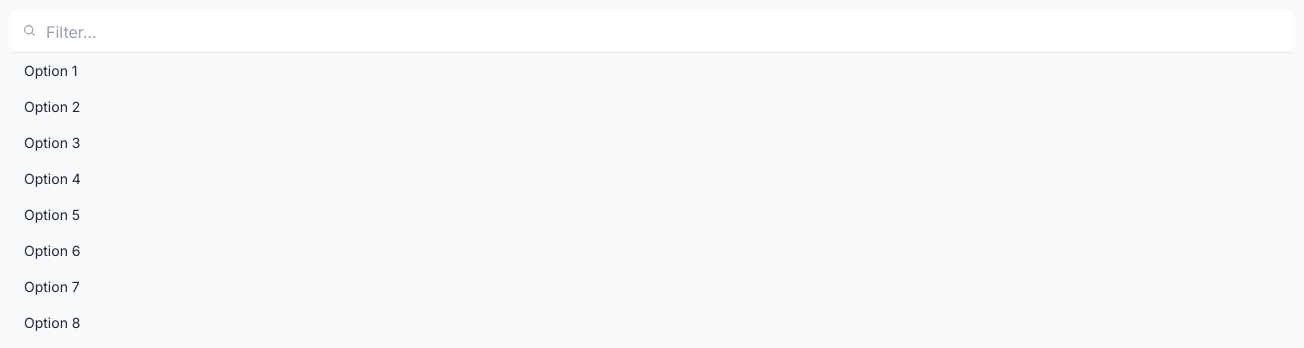
Test case: EnumPicker › typing filters the list
This screenshot has width=1304, height=348.
In the field: (652, 32) [12,12,1292,53], type "Option 12"
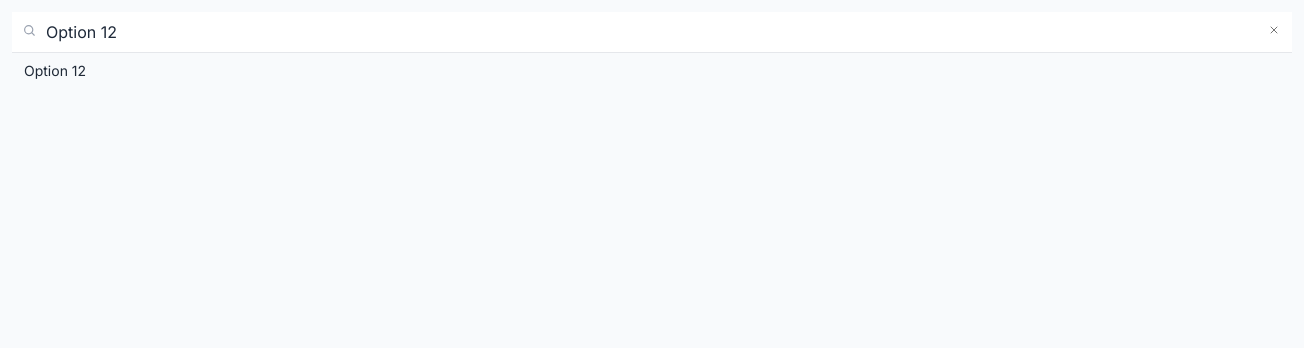
Result: the text "Option 12" is shown at [24,61,86,81]
Result: the text "Option 3" is gone
